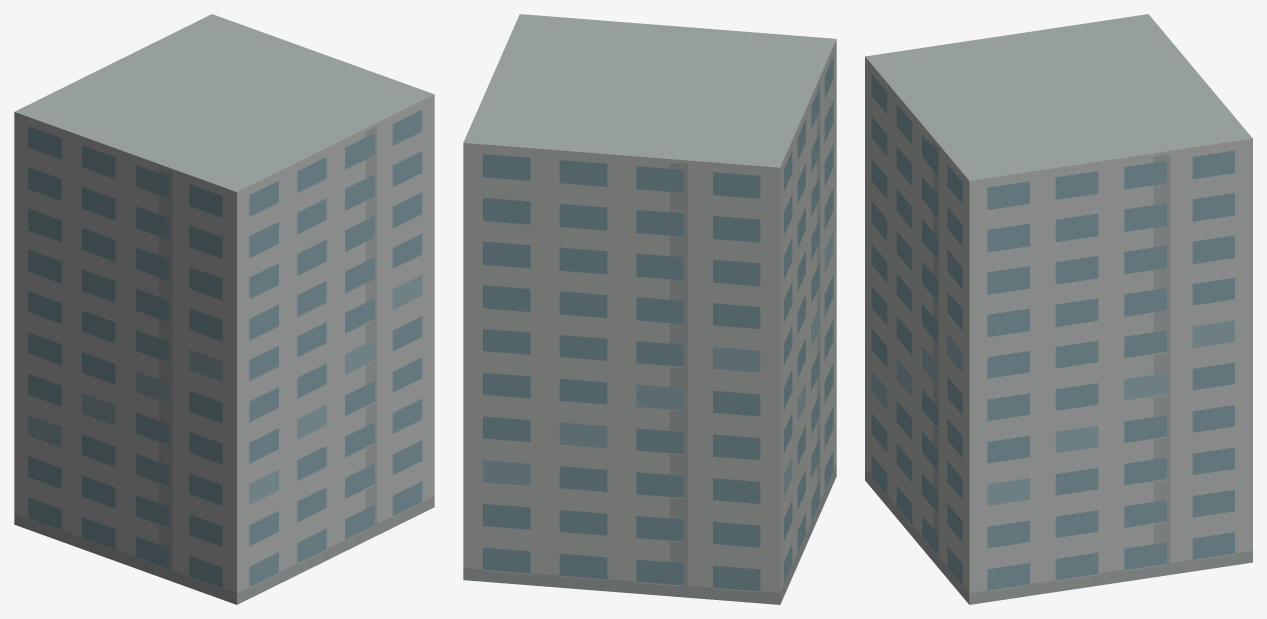
Rendered from residential-40b90dea-0fa0-48f8-99c1-627cca53da1c.glb.
3 renders of one model, left to right at view 1: azimuth 30°, elevation 25°; view 2: azimuth 150°, elevation 25°; view 3: azimuth 270°, elevation 25°, orthographic. The views are drawn at different scales.
Visible parts, largest first — view 1: residential-40b90dea-0fa0-48f8-99c1-627cca53da1c.tmp; view 2: residential-40b90dea-0fa0-48f8-99c1-627cca53da1c.tmp; view 3: residential-40b90dea-0fa0-48f8-99c1-627cca53da1c.tmp.
Part boxes in pixels (<box>): residential-40b90dea-0fa0-48f8-99c1-627cca53da1c.tmp: <box>14,14,434,604</box>; residential-40b90dea-0fa0-48f8-99c1-627cca53da1c.tmp: <box>463,14,836,604</box>; residential-40b90dea-0fa0-48f8-99c1-627cca53da1c.tmp: <box>865,14,1252,604</box>.
Size of the model in its own units: 26.19 by 31 by 25.7.
